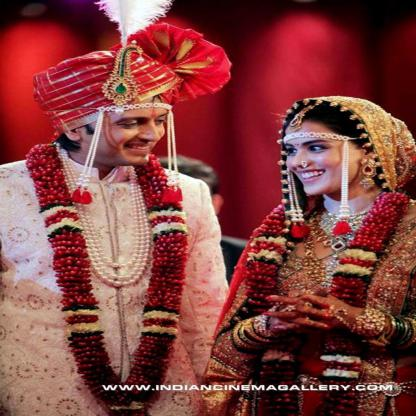face: (286, 122, 365, 194), (100, 102, 170, 166)
